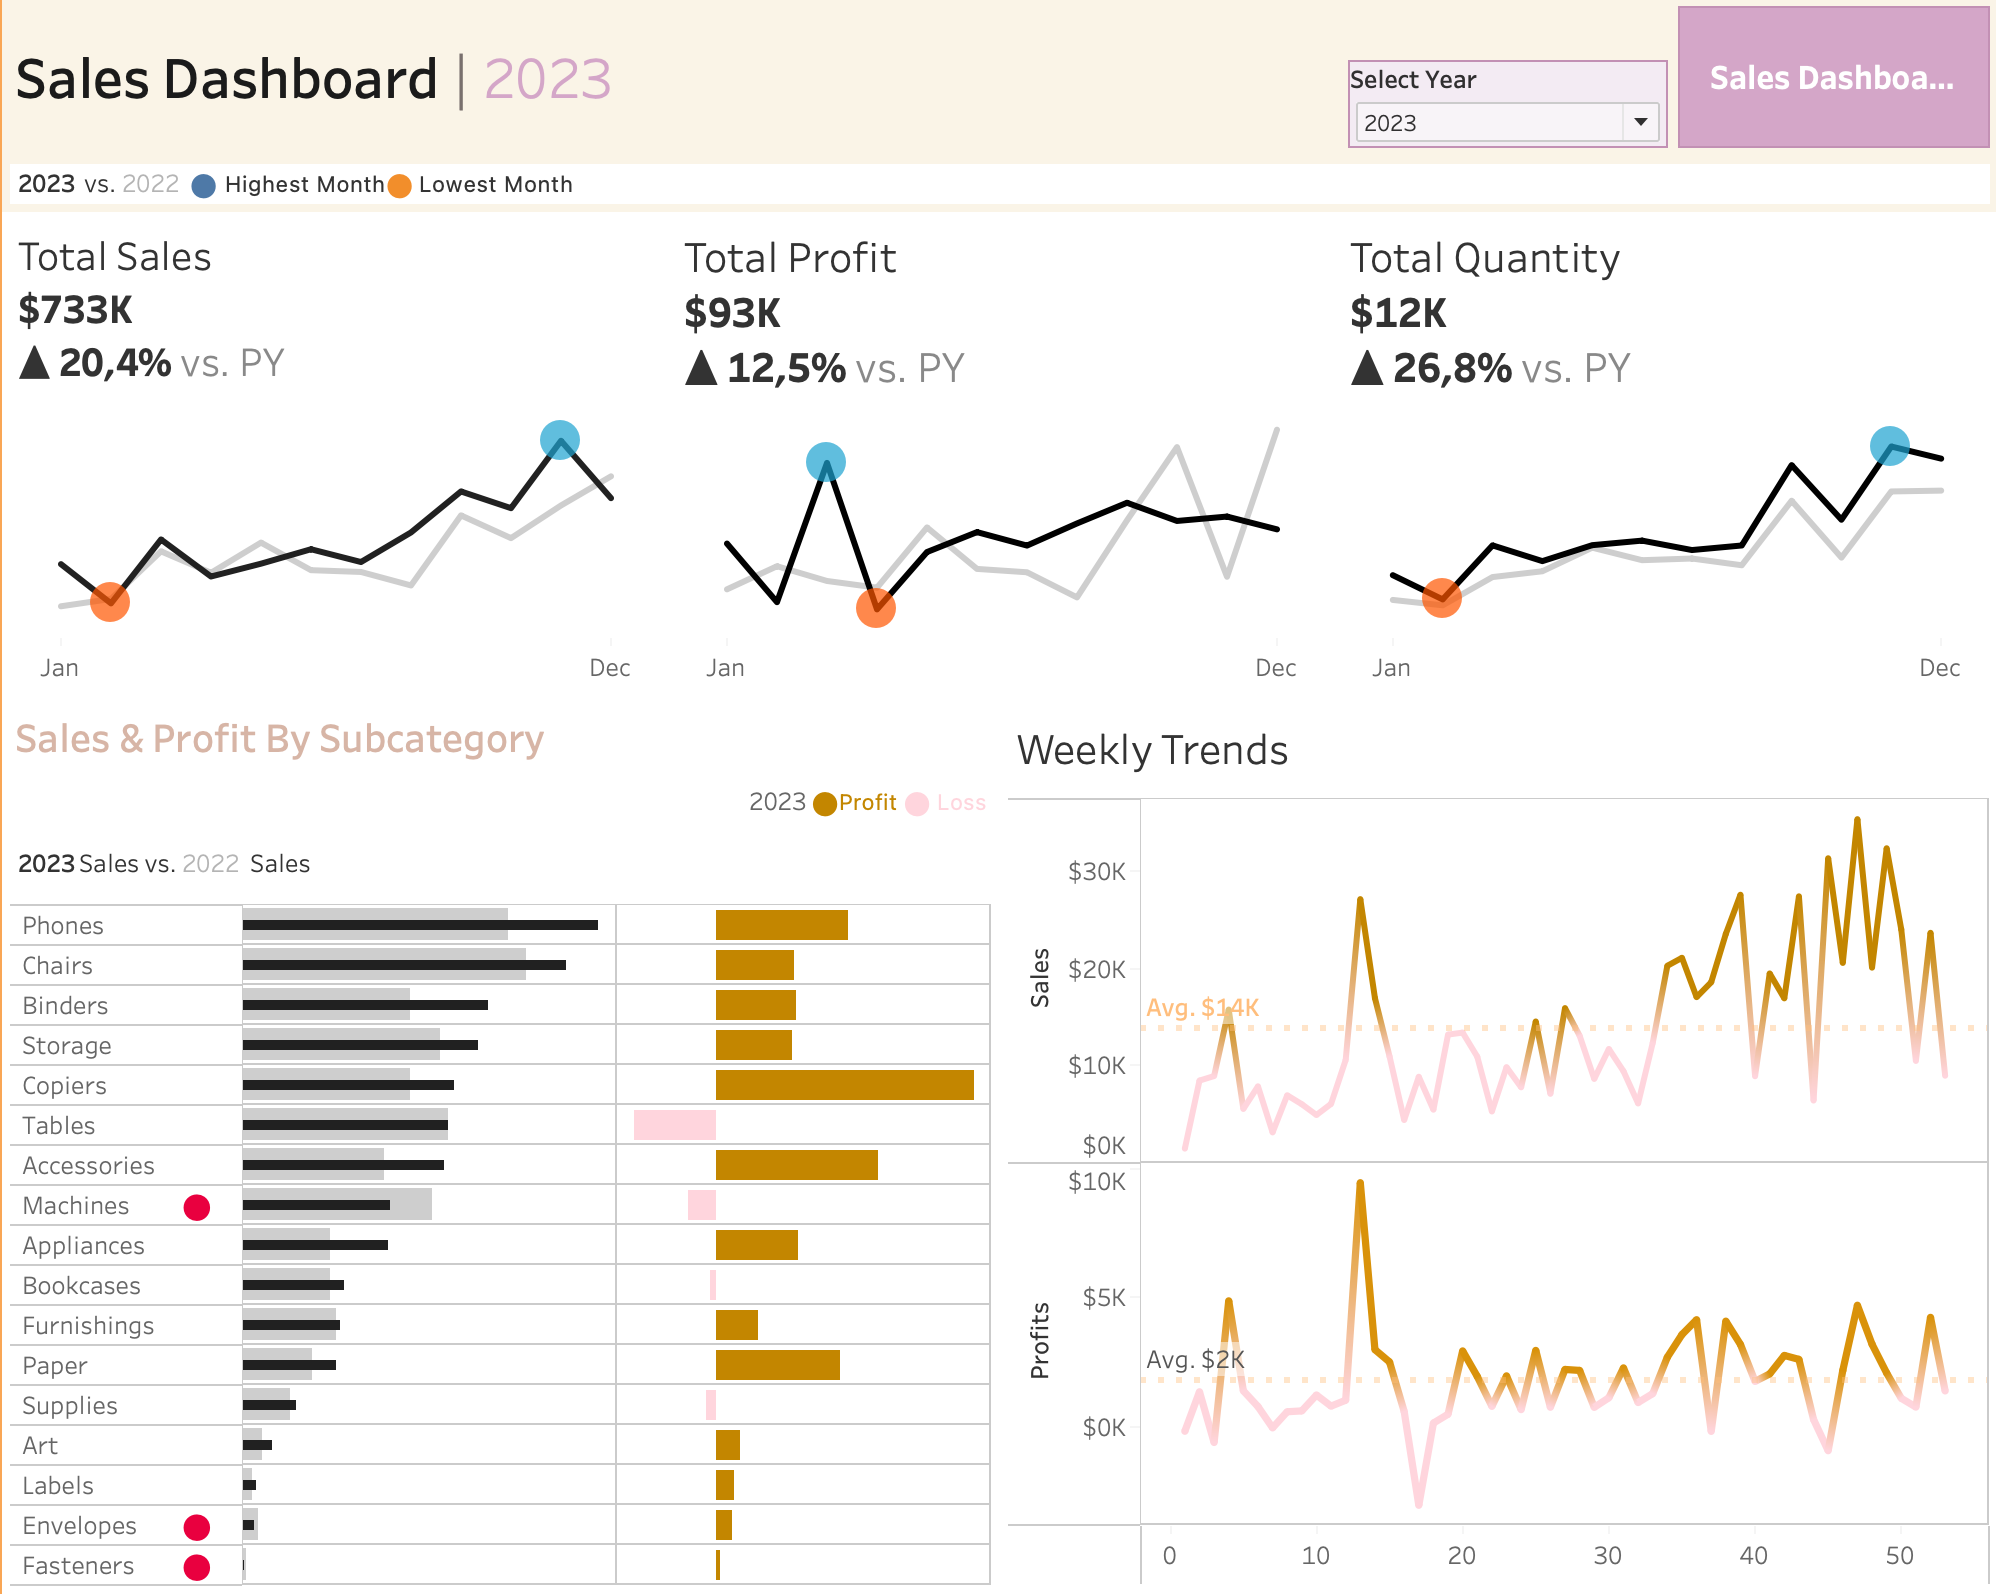

Layout of this report page (visuals, bound fields, positions):
{"tool":"tableau","page":{"name":"Sales Dashboard","canvas":[1000,800],"ordinal":0},"visuals":[{"type":"text","box":[1,1,834,79]},{"type":"dashboard-object","box":[835,1,164,79]},{"type":"parameter","param":"[Parameters].[Parameter 1]","box":[674,32,160,44]},{"type":"worksheet","title":"Legend Sub (2)","mark":"Automatic","box":[1,80,998,28]},{"type":"worksheet","title":"KPI Sales","mark":"Automatic","rows":["Calculation_721701895347843083"],"cols":["Order Date"],"box":[1,108,333,246]},{"type":"worksheet","title":"KPI Profit","mark":"Automatic","rows":["Min/Max Sales (copy)_237846410425847814"],"cols":["Order Date"],"box":[334,108,333,246]},{"type":"worksheet","title":"KPI Quantity","mark":"Automatic","rows":["Min/Max Sales (copy) (copy)_237846410425856007"],"cols":["Order Date"],"box":[667,108,332,246]},{"type":"text","box":[1,354,499,32]},{"type":"worksheet","title":"Weekly Trends","mark":"Automatic","rows":["Calculation_721701895334993921","CY Sales (copy)_237846410424180736"],"cols":["Order Date"],"box":[500,354,499,445]},{"type":"text","box":[1,386,499,32]},{"type":"worksheet","title":"Legend Sub","mark":"Automatic","box":[1,418,499,32]},{"type":"worksheet","title":"Subcategory Comparison","mark":"Bar","rows":["Sub-Category","Calculation_2435040078806671369"],"cols":["CY Sales (copy)_721701895335804930","Calculation_721701895334993921","CY Sales (copy)_237846410424180736"],"box":[1,450,499,349]}]}

Visuals, with their boxes in screenshot pixels (x1, y1, x2, y2), scaled from the page's 1000x800 canvas onto the 1996x1594 screenshot:
text: <bbox>2, 2, 1667, 159</bbox>
dashboard-object: <bbox>1667, 2, 1994, 159</bbox>
parameter: <bbox>1345, 64, 1665, 151</bbox>
"Legend Sub (2)" worksheet: <bbox>2, 159, 1994, 215</bbox>
"KPI Sales" worksheet: <bbox>2, 215, 667, 705</bbox>
"KPI Profit" worksheet: <bbox>667, 215, 1331, 705</bbox>
"KPI Quantity" worksheet: <bbox>1331, 215, 1994, 705</bbox>
text: <bbox>2, 705, 998, 769</bbox>
"Weekly Trends" worksheet: <bbox>998, 705, 1994, 1592</bbox>
text: <bbox>2, 769, 998, 833</bbox>
"Legend Sub" worksheet: <bbox>2, 833, 998, 897</bbox>
"Subcategory Comparison" worksheet (Bar marks): <bbox>2, 897, 998, 1592</bbox>
